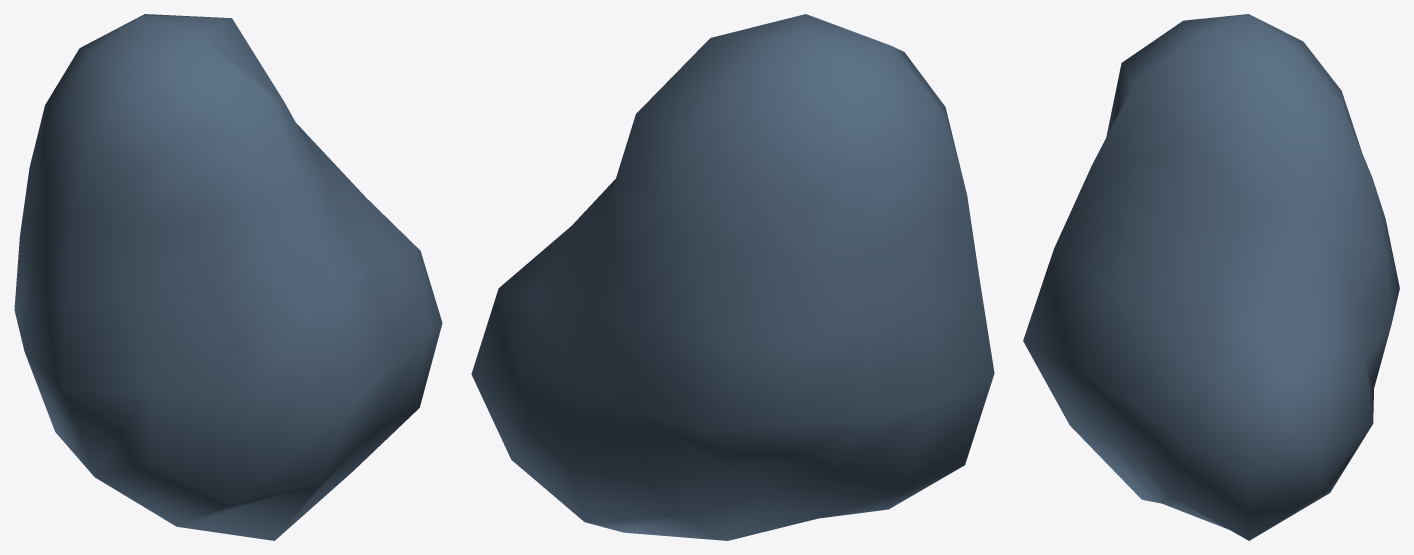
File: batu kecil 1.fbx
3 renders of one model, left to right at view 1: azimuth 30°, elevation 25°; view 2: azimuth 150°, elevation 25°; view 3: azimuth 270°, elevation 25°, orthographic. The views are drawn at different scales.
Visible parts, largest first — view 1: rock.018; view 2: rock.018; view 3: rock.018.
Boxes of the visible parts, box(x1,y1,x2,y2) form: rock.018: box(14, 14, 442, 540); rock.018: box(471, 14, 994, 540); rock.018: box(1023, 14, 1399, 540).
Size of the model in its own units: 207 by 238 by 180.
